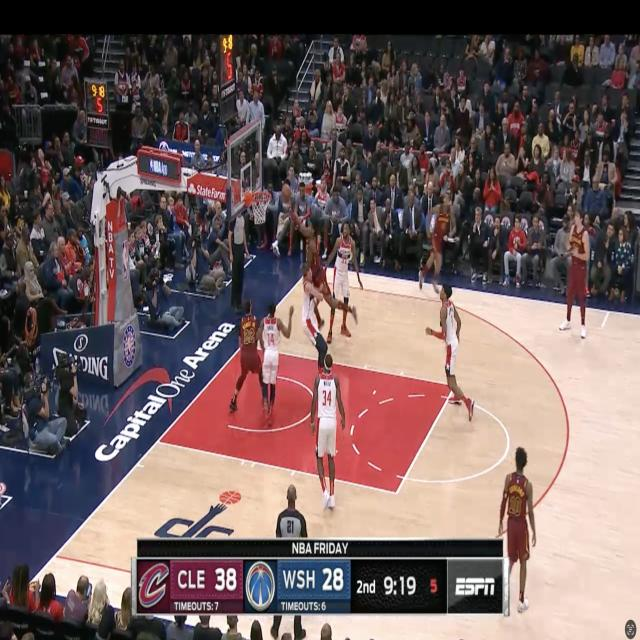foul: (279, 196, 347, 393)
no foul: (296, 340, 357, 520), (222, 279, 283, 416), (333, 214, 375, 349)
